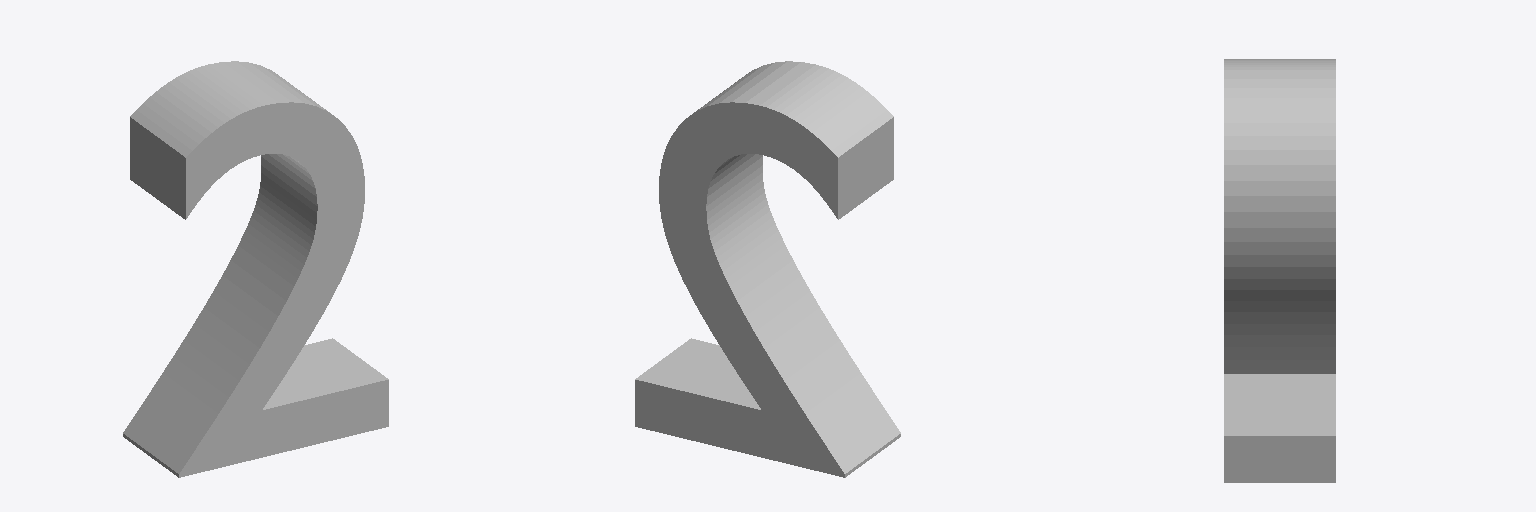
Rendered from twoNoHyph.obj.
3 renders of one model, left to right at view 1: azimuth 30°, elevation 25°; view 2: azimuth 150°, elevation 25°; view 3: azimuth 270°, elevation 25°, orthographic.
Parts seen in each view (by area): view 1: Blue_Team__Text; view 2: Blue_Team__Text; view 3: Blue_Team__Text.
Part boxes in pixels (x1,y1,x2,y2): Blue_Team__Text: (123, 61, 388, 477); Blue_Team__Text: (635, 61, 900, 477); Blue_Team__Text: (1224, 59, 1335, 482).
Bounding box in the file's own units: 0.432 × 0.691 × 0.2.